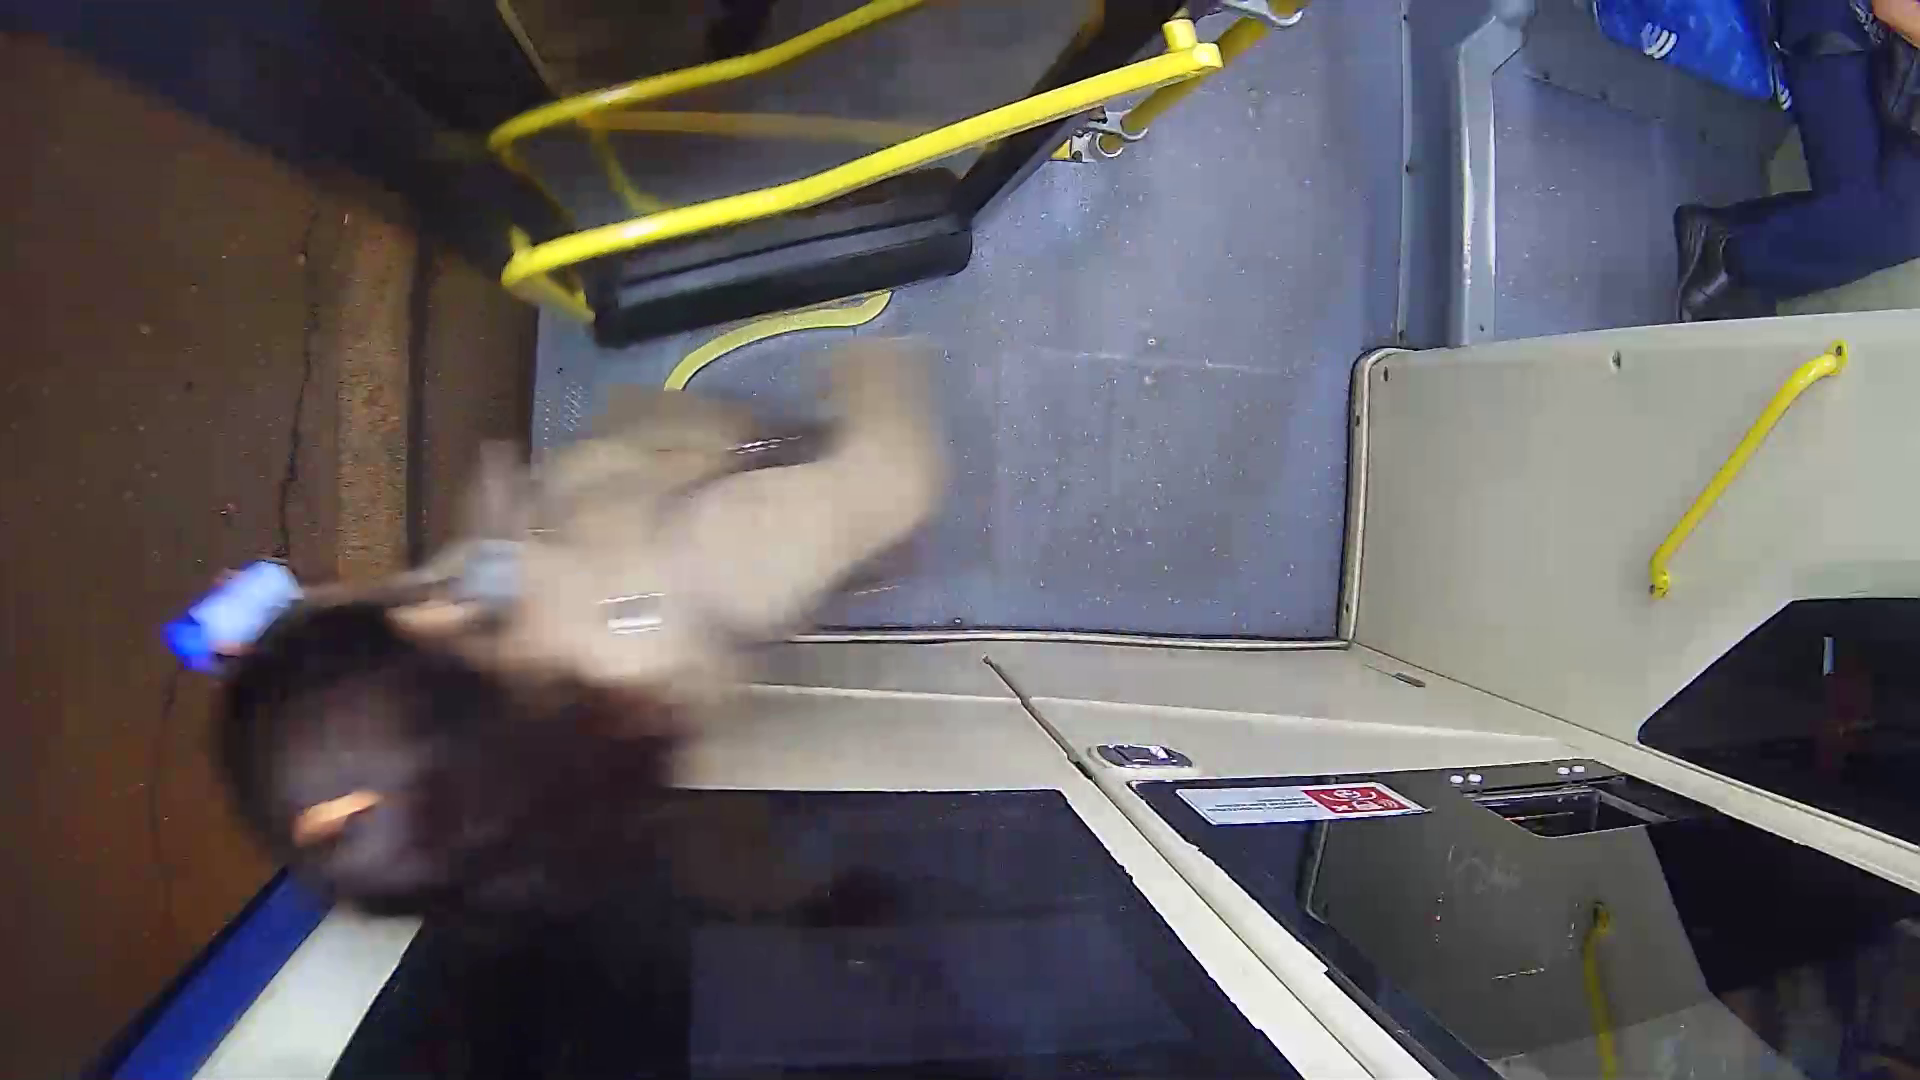person: (166, 345, 1024, 958)
